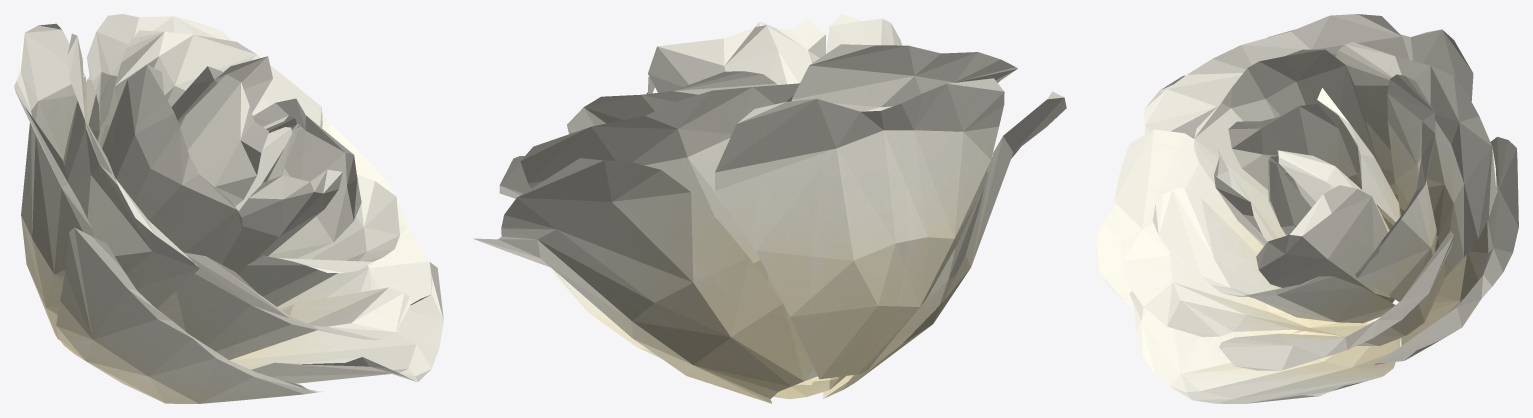
Rendered from rose-parts.glb.
3 views of the same model, side by side, from view 1: azimuth 30°, elevation 25°; view 2: azimuth 150°, elevation 25°; view 3: azimuth 270°, elevation 25° (orthographic). The views are drawn at different scales.
Parts seen in each view (by area): view 1: rose_head_0; view 2: rose_head_0; view 3: rose_head_0.
Boxes of the visible parts, box(x1,y1,x2,y2) form: rose_head_0: box(14, 14, 443, 403); rose_head_0: box(473, 14, 1066, 403); rose_head_0: box(1095, 14, 1518, 403).
Bounding box in the file's own units: 0.0533 × 0.0441 × 0.0553.
Materials: 1 (1 with a texture image).
